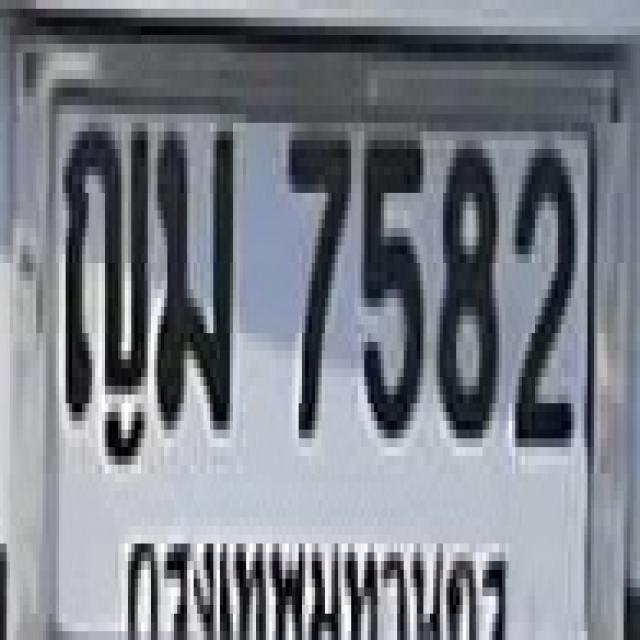2: (512, 140, 578, 450)
5: (358, 132, 426, 440)
7: (286, 123, 352, 443)
8: (433, 140, 500, 442)
A13: (62, 114, 150, 473)
A33: (154, 123, 233, 438)
BKK: (122, 509, 518, 640)
